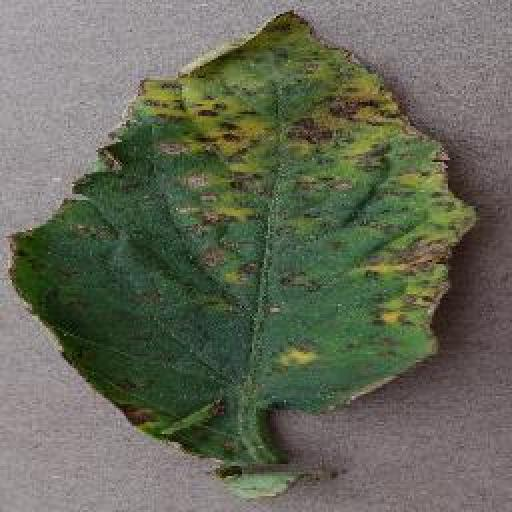Bacterial Spot: (0, 6, 483, 462)
